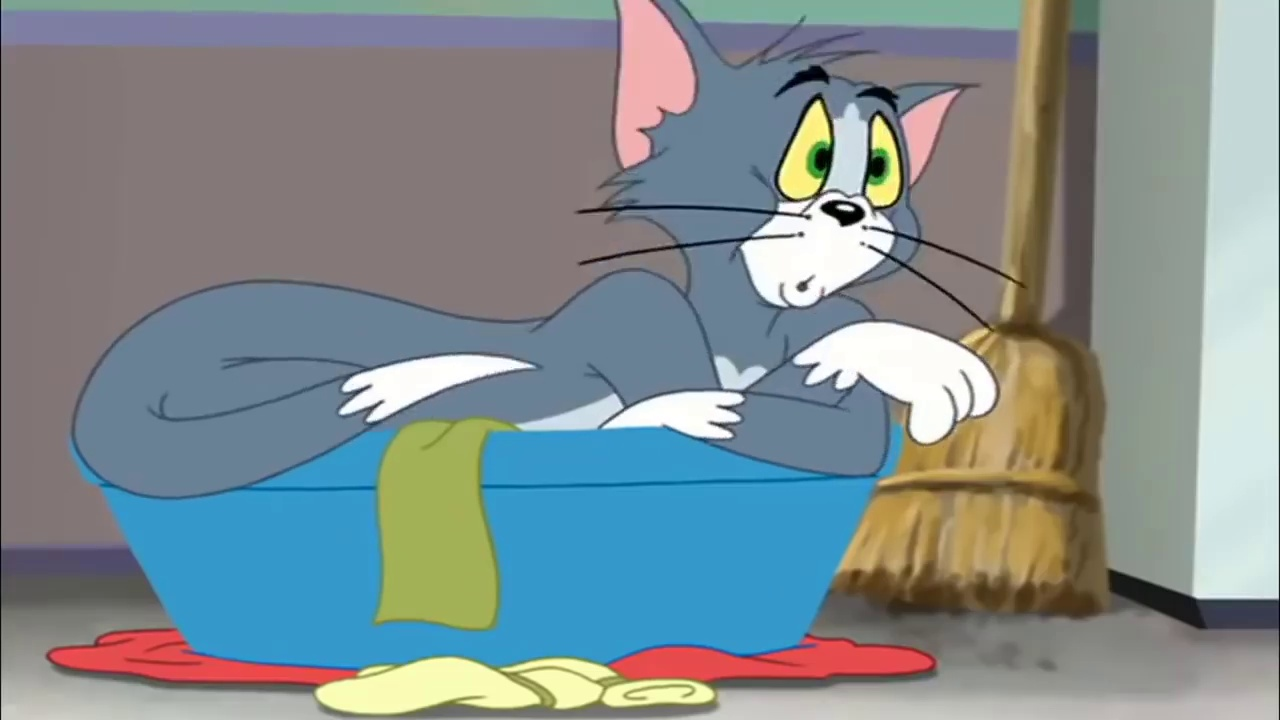face: (733, 67, 929, 311)
